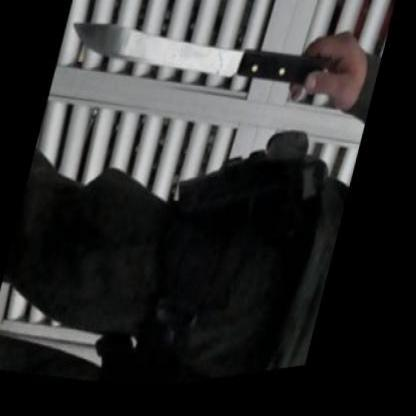knife: (54, 0, 370, 148)
